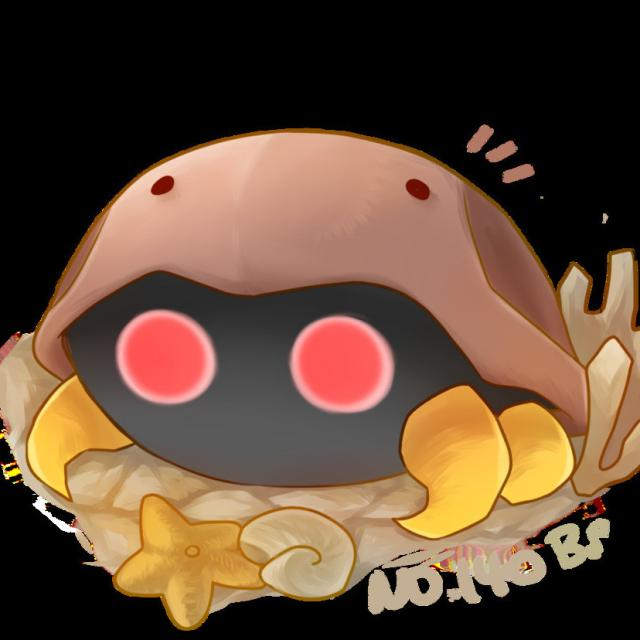Kabuto: (21, 109, 632, 527)
